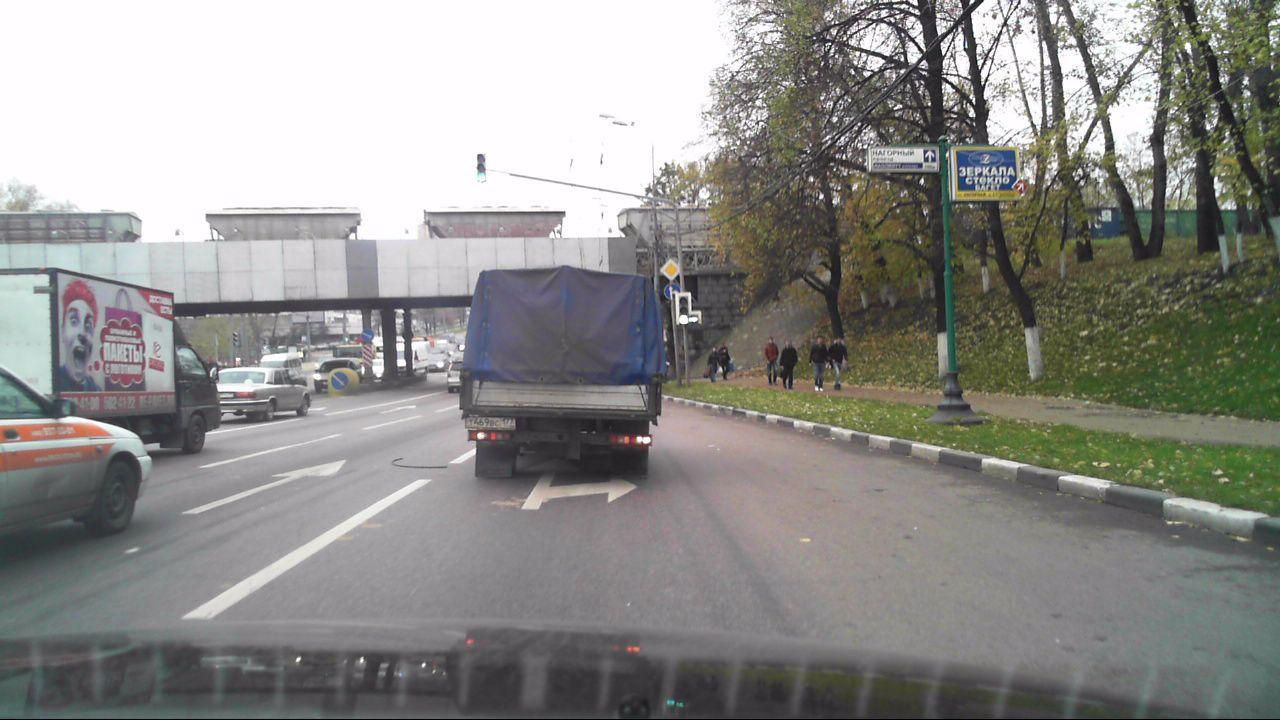obstructed_road_sign: (664, 283, 681, 300)
road_sign: (657, 256, 683, 282), (331, 372, 349, 390), (362, 344, 372, 368), (360, 328, 375, 342)
traffic light: (678, 295, 701, 326), (476, 154, 487, 184)
